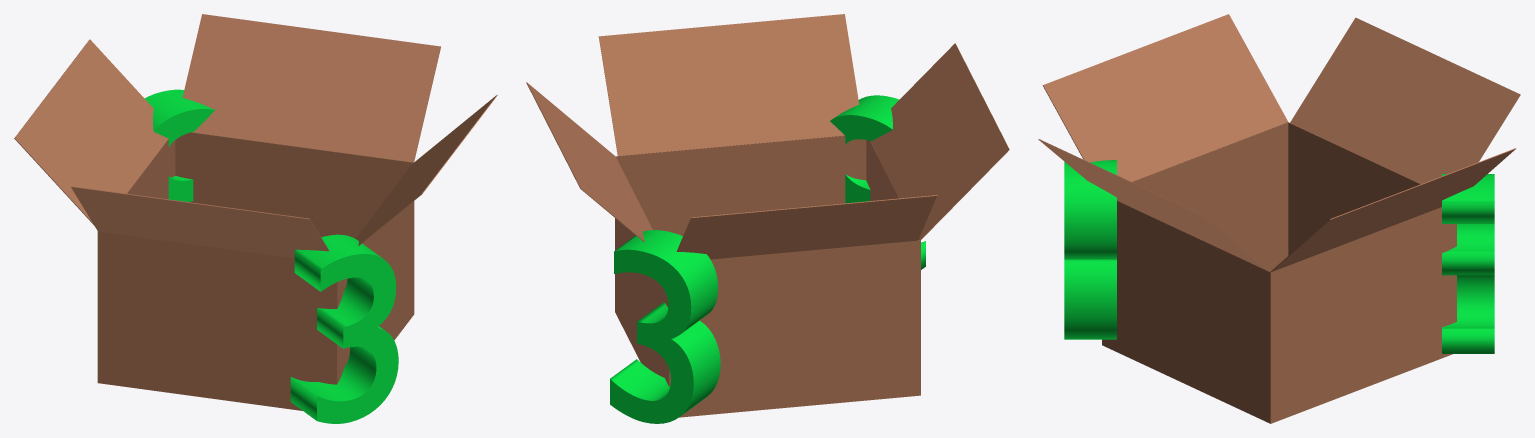
The model's file is number3.glb.
3 views of the same model, side by side, from view 1: azimuth 30°, elevation 25°; view 2: azimuth 150°, elevation 25°; view 3: azimuth 270°, elevation 25° (orthographic). The views are drawn at different scales.
Visible parts, largest first — view 1: Empty_box, Text.004, Text.001; view 2: Empty_box, Text.001, Text.004; view 3: Empty_box, Text.004, Text.001.
Part boxes in pixels (x1,y1,x2,y2): Empty_box: [14, 14, 497, 410]; Text.004: [290, 234, 398, 423]; Text.001: [145, 89, 214, 201]; Empty_box: [526, 14, 1009, 417]; Text.001: [610, 230, 720, 423]; Text.004: [830, 95, 925, 269]; Empty_box: [1038, 14, 1520, 423]; Text.004: [1064, 160, 1116, 339]; Text.001: [1442, 174, 1494, 353].
Bounding box in the file's own units: 3.48 × 1.83 × 3.45.
Materials: 2 (1 with a texture image).
